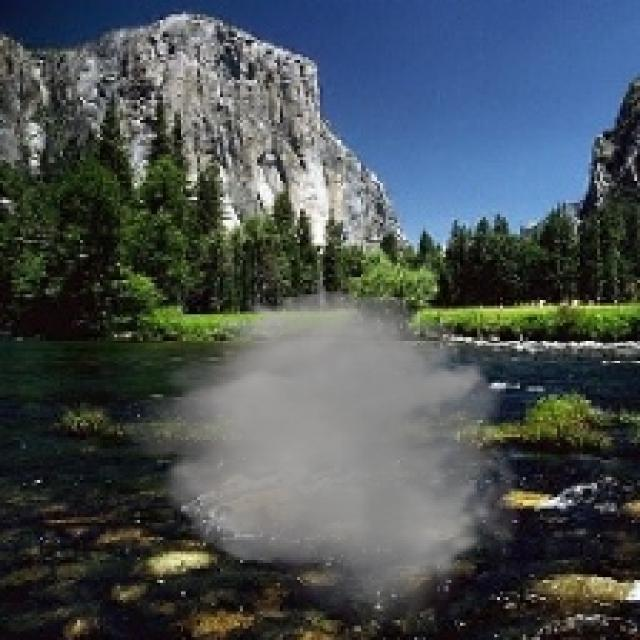smoke: (112, 283, 537, 631)
